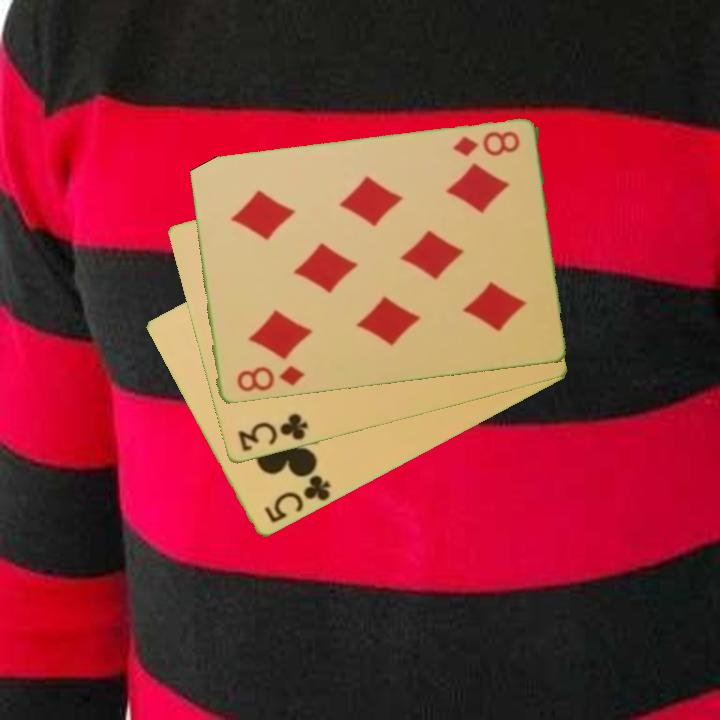3c: (234, 410, 311, 455)
5c: (260, 471, 334, 527)
8d: (232, 363, 308, 396), (449, 128, 522, 160)
